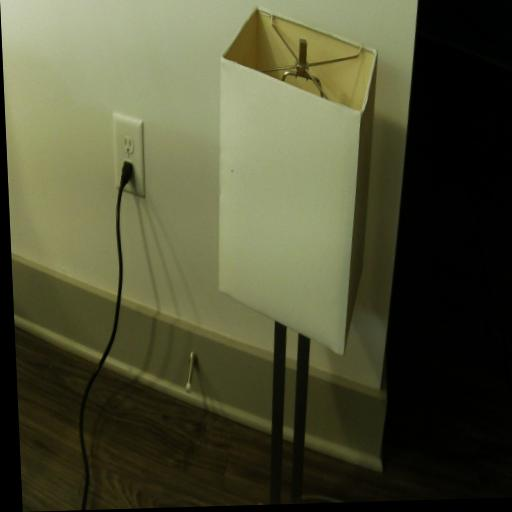lamp: (207, 3, 397, 506)
